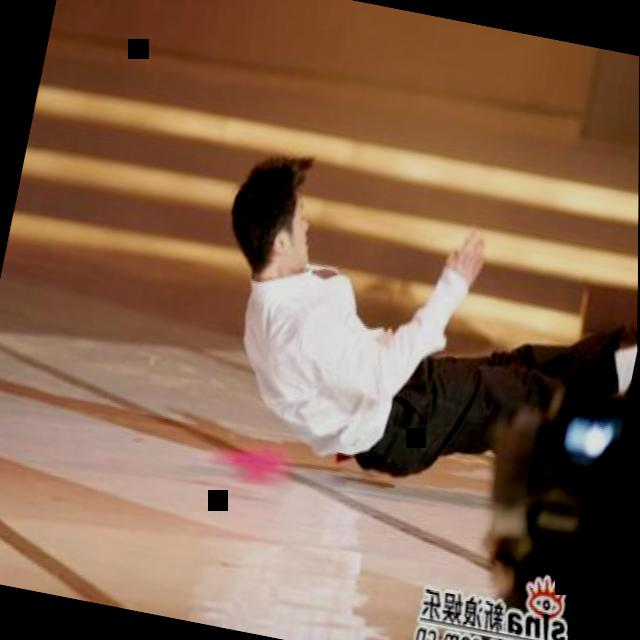Fall-Detected: (192, 119, 639, 550)
